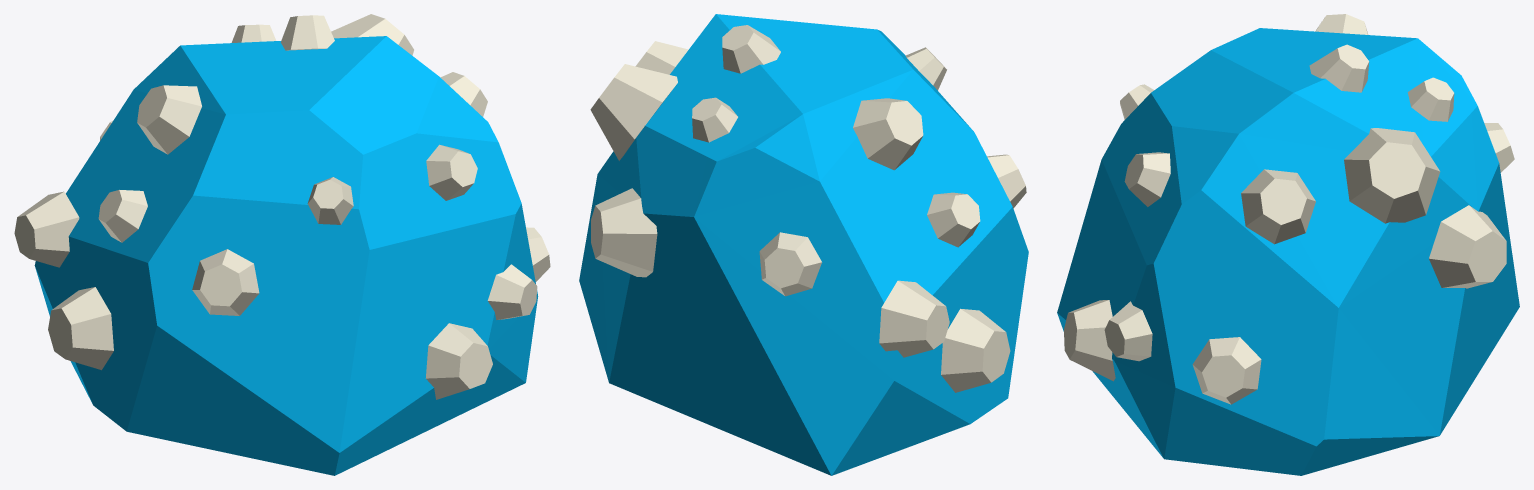
The model's file is BarnacleRock_Split.fbx.
3 views of the same model, side by side, from view 1: azimuth 30°, elevation 25°; view 2: azimuth 150°, elevation 25°; view 3: azimuth 270°, elevation 25° (orthographic). The views are drawn at different scales.
Parts seen in each view (by area): view 1: BarnacleRock_PieceA, BarnacleRock_PieceB, BarnacleRock_Barnacles_L, BarnacleRock_Barnacles_R; view 2: BarnacleRock_PieceA, BarnacleRock_PieceB, BarnacleRock_Barnacles_L, BarnacleRock_Barnacles_R; view 3: BarnacleRock_PieceB, BarnacleRock_Barnacles_R, BarnacleRock_PieceA, BarnacleRock_Barnacles_L.
Boxes of the visible parts, x1,y1,x2,y2 form: BarnacleRock_PieceA: (34, 41, 409, 475); BarnacleRock_PieceB: (276, 36, 538, 442); BarnacleRock_Barnacles_L: (14, 35, 353, 370); BarnacleRock_Barnacles_R: (235, 14, 550, 399); BarnacleRock_PieceA: (694, 24, 1028, 475); BarnacleRock_PieceB: (579, 14, 822, 423); BarnacleRock_Barnacles_L: (720, 47, 1026, 392); BarnacleRock_Barnacles_R: (590, 25, 779, 277); BarnacleRock_PieceB: (1089, 63, 1498, 475); BarnacleRock_Barnacles_R: (1064, 44, 1506, 404); BarnacleRock_PieceA: (1057, 28, 1519, 380); BarnacleRock_Barnacles_L: (1120, 14, 1514, 172).
Bounding box in the file's own units: 8.78 × 6.62 × 8.02.
